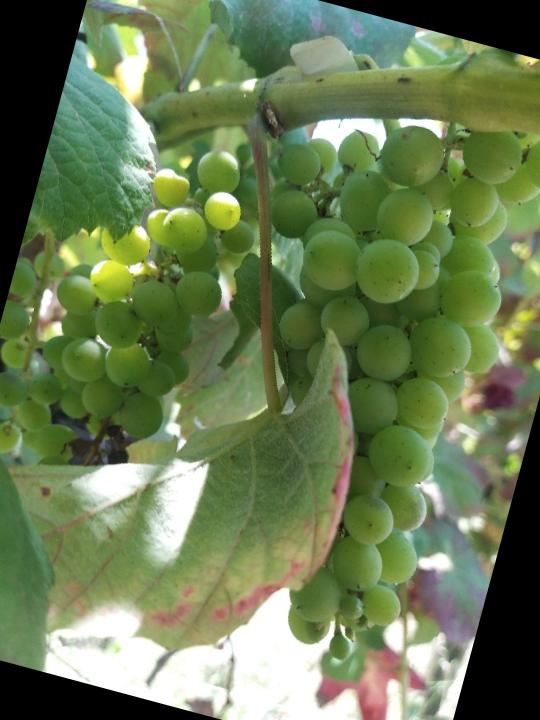grape: (154, 67, 540, 688), (12, 120, 272, 495)
